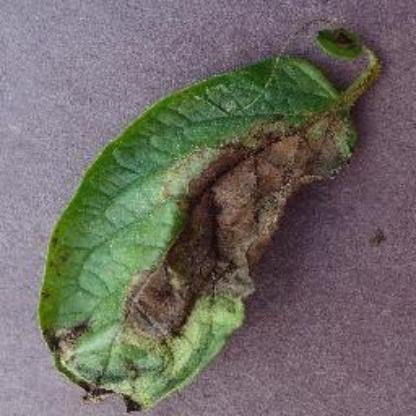Late-Blight: (32, 21, 392, 415)
